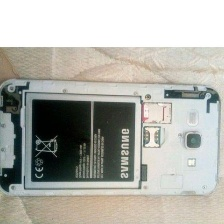phone: (0, 78, 223, 201)
